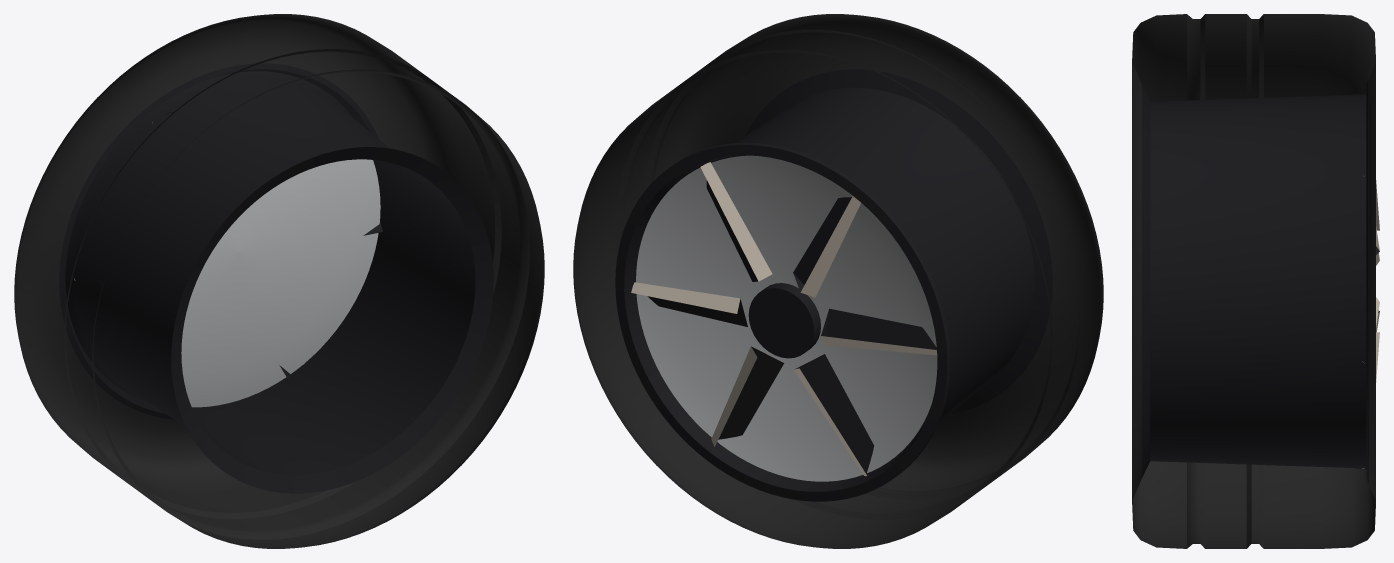
Rendered from SM_Wheel_Rear.fbx.
The picture shows the model from 3 angles, left to right: view 1: azimuth 30°, elevation 25°; view 2: azimuth 150°, elevation 25°; view 3: azimuth 270°, elevation 25°; orthographic projection. The views are drawn at different scales.
Parts seen in each view (by area): view 1: Wheel_Rear; view 2: Wheel_Rear; view 3: Wheel_Rear.
Boxes of the visible parts, bbox=[...] form: Wheel_Rear: bbox=[14, 14, 544, 548]; Wheel_Rear: bbox=[573, 14, 1103, 548]; Wheel_Rear: bbox=[1132, 14, 1379, 548].
Bounding box in the file's own units: 0.3403 × 0.7344 × 0.7344.
